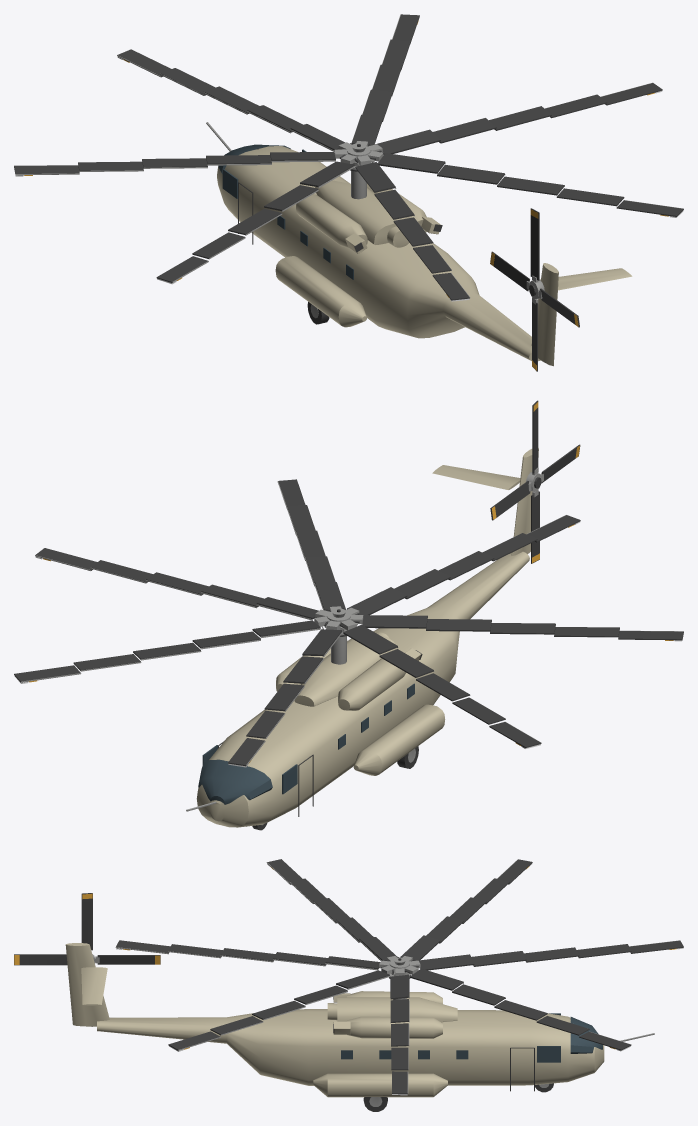
The model's file is usa_heli_ch53.glb.
The picture shows the model from 3 angles, top to bottom: view 1: azimuth 30°, elevation 25°; view 2: azimuth 150°, elevation 25°; view 3: azimuth 270°, elevation 25°; orthographic projection. The views are drawn at different scales.
Visible parts, largest first — view 1: body, rotor, trotor; view 2: body, rotor, trotor; view 3: body, rotor, trotor.
Boxes of the visible parts, x1,y1,x2,y2 form: body: (206, 122, 632, 366); rotor: (14, 14, 683, 301); trotor: (490, 208, 579, 371); body: (186, 448, 538, 830); rotor: (14, 479, 683, 767); trotor: (490, 400, 580, 563); body: (65, 943, 654, 1111); rotor: (115, 859, 683, 1095); trotor: (14, 893, 160, 1026).
Bounding box in the file's own units: 23.05 × 8.74 × 27.87.
